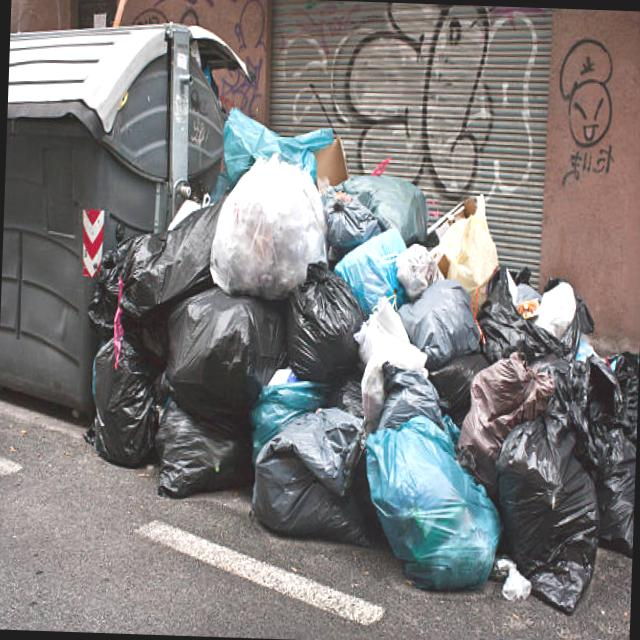garbage: (72, 105, 640, 611)
